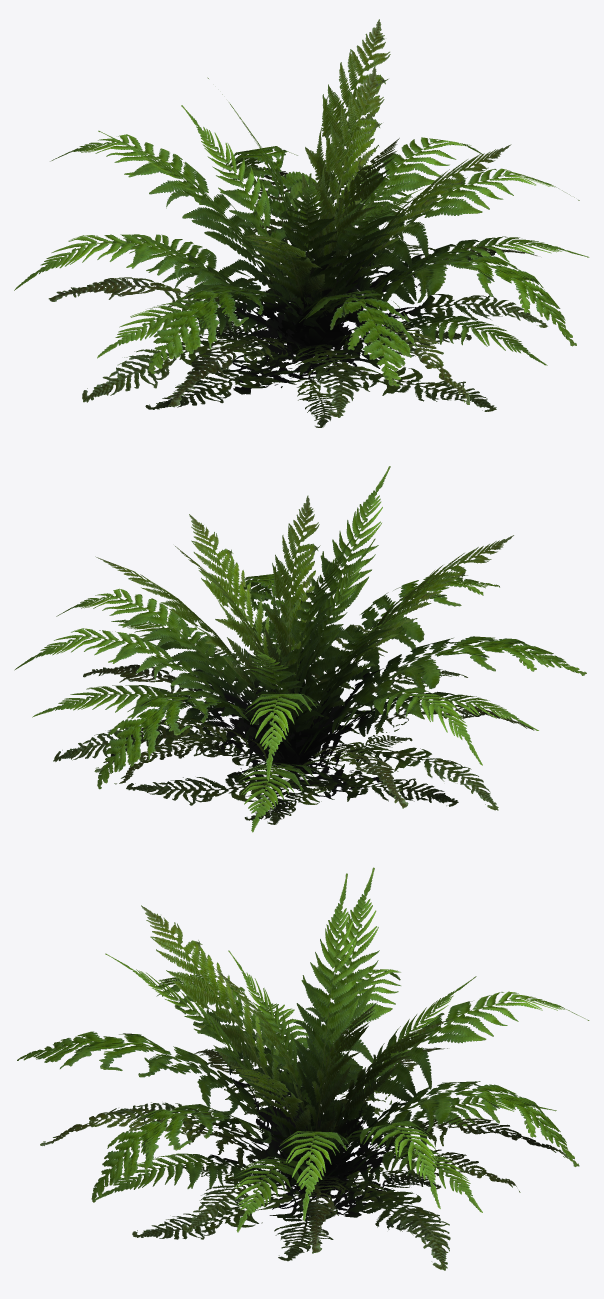
Rendered from PW_Plant_Fern_01_02.glb.
The picture shows the model from 3 angles, top to bottom: view 1: azimuth 30°, elevation 25°; view 2: azimuth 150°, elevation 25°; view 3: azimuth 270°, elevation 25°; orthographic projection. The views are drawn at different scales.
Parts seen in each view (by area): view 1: PW_Flower_Fern_02_LOD0; view 2: PW_Flower_Fern_02_LOD0; view 3: PW_Flower_Fern_02_LOD0.
Part boxes in pixels (x1,y1,x2,y2): PW_Flower_Fern_02_LOD0: (14, 19, 589, 427); PW_Flower_Fern_02_LOD0: (14, 466, 586, 832); PW_Flower_Fern_02_LOD0: (17, 867, 589, 1270).
Bounding box in the file's own units: 1.57 × 0.871 × 1.58.
Materials: 1 (1 with a texture image).
